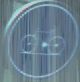bike lane: (2, 4, 75, 74)
